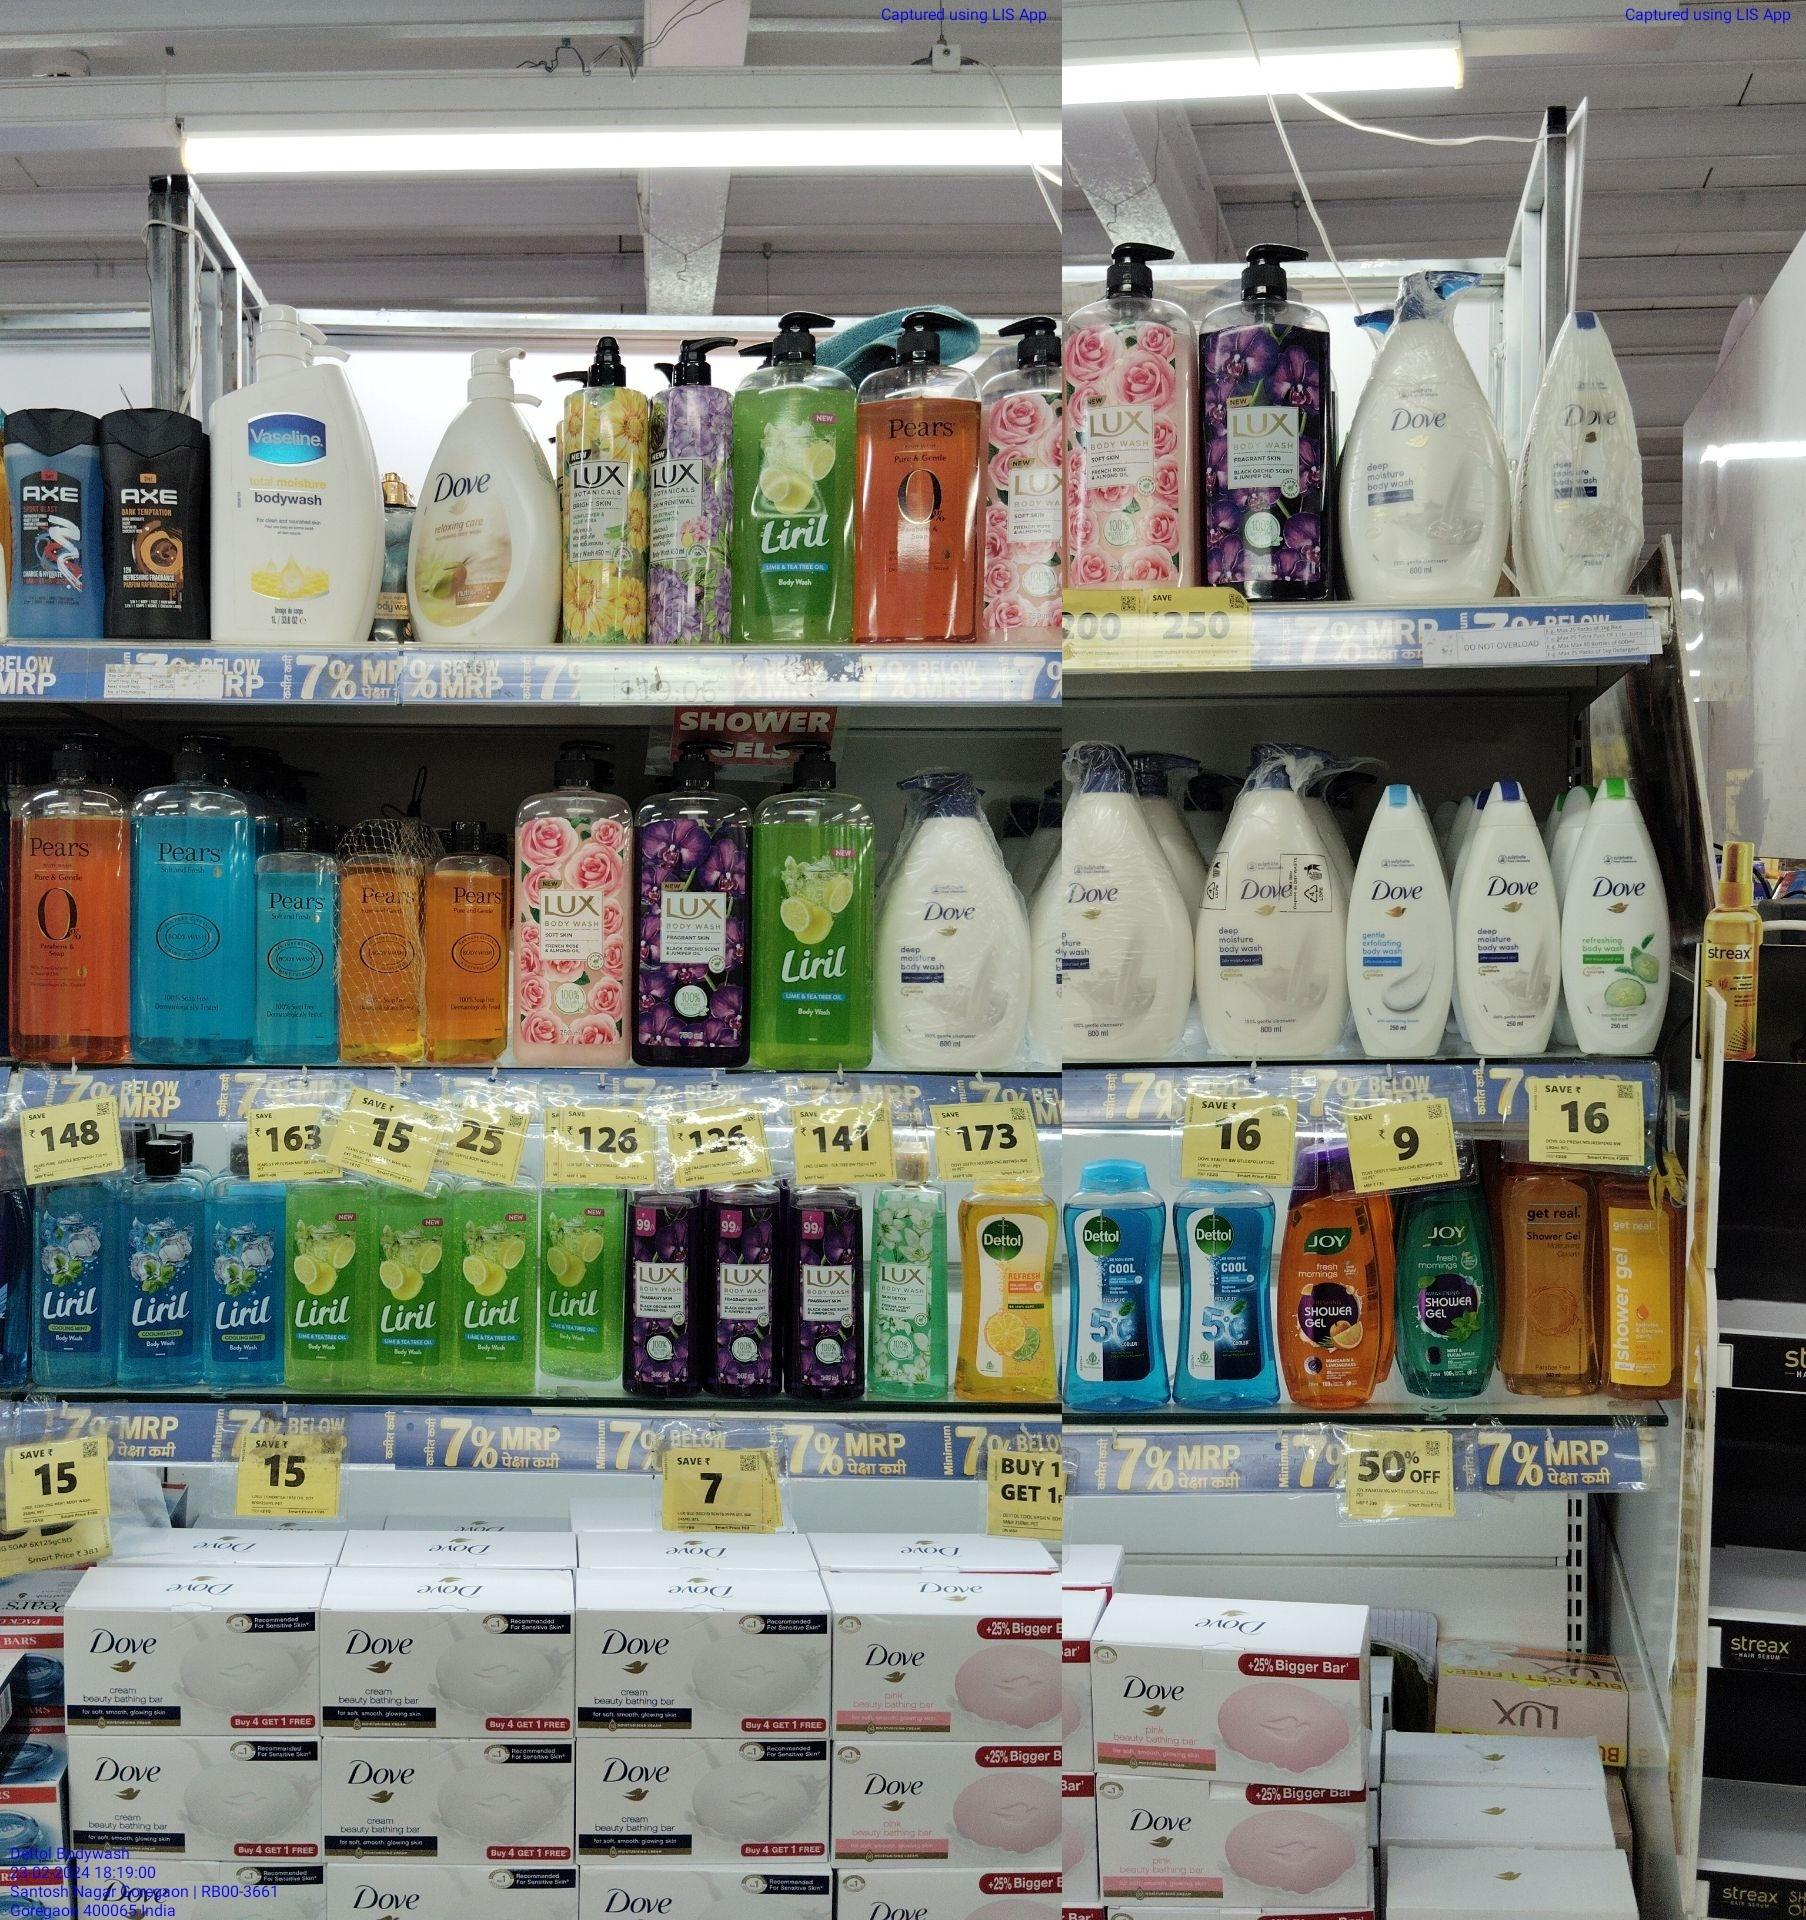Dettol_Bodywash_Cool: (1061, 1165, 1173, 1409), (1176, 1180, 1278, 1414)
Dettol_Bodywash_Refresh: (959, 1188, 1059, 1402)
Dove_Deep_Moisture_Body_Wash_250ML: (1516, 321, 1648, 598), (1458, 786, 1562, 1056)
Dove_Gentle_Exfoliating_Body_Wash_250ML: (1346, 791, 1455, 1053)
Dove_Refreshing_Body_Wash_250ML: (1563, 783, 1672, 1053)
Get_Real_Shower_Gel_Moisturising_Glycerin_300ML: (1500, 1163, 1602, 1401)
Joy_Shower_Gel_Mandarin_and_Lemongrass_250ML: (1283, 1148, 1375, 1409)
Joy_Shower_Gel_Mint_and_Eucalyptus_250ML: (1392, 1199, 1497, 1397)
Liril_Cooling_Mint_Body_Wash_250ML: (119, 1148, 209, 1389), (32, 1185, 117, 1392), (210, 1178, 285, 1390)
Liril_Lime_and_Tea_Tree_Oil_Body_Wash_250ML: (287, 1182, 375, 1392), (453, 1180, 538, 1397), (377, 1180, 453, 1395), (543, 1182, 623, 1385)
Lux_Black_Orchid_Scent_and_Juniper_Oil_Body_Wash_245ML: (786, 1188, 862, 1401), (703, 1188, 781, 1395), (626, 1192, 699, 1401)
Lux_Body_Wash_Skin_Detox_Freesia_Scent_and_Alove_Vera_245ML: (871, 1187, 954, 1401)
Pears_Pure_Glycerin_and_Mint_Extracts_Body_Wash_250ML: (255, 815, 339, 1063)
